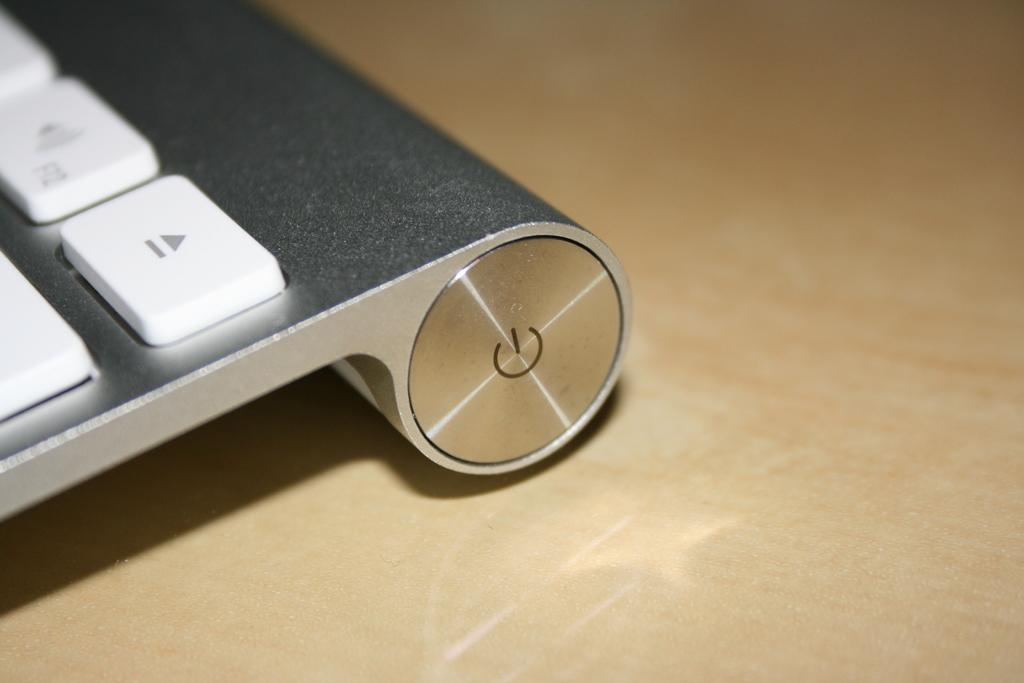Computer-keyboard: (0, 7, 290, 422)
